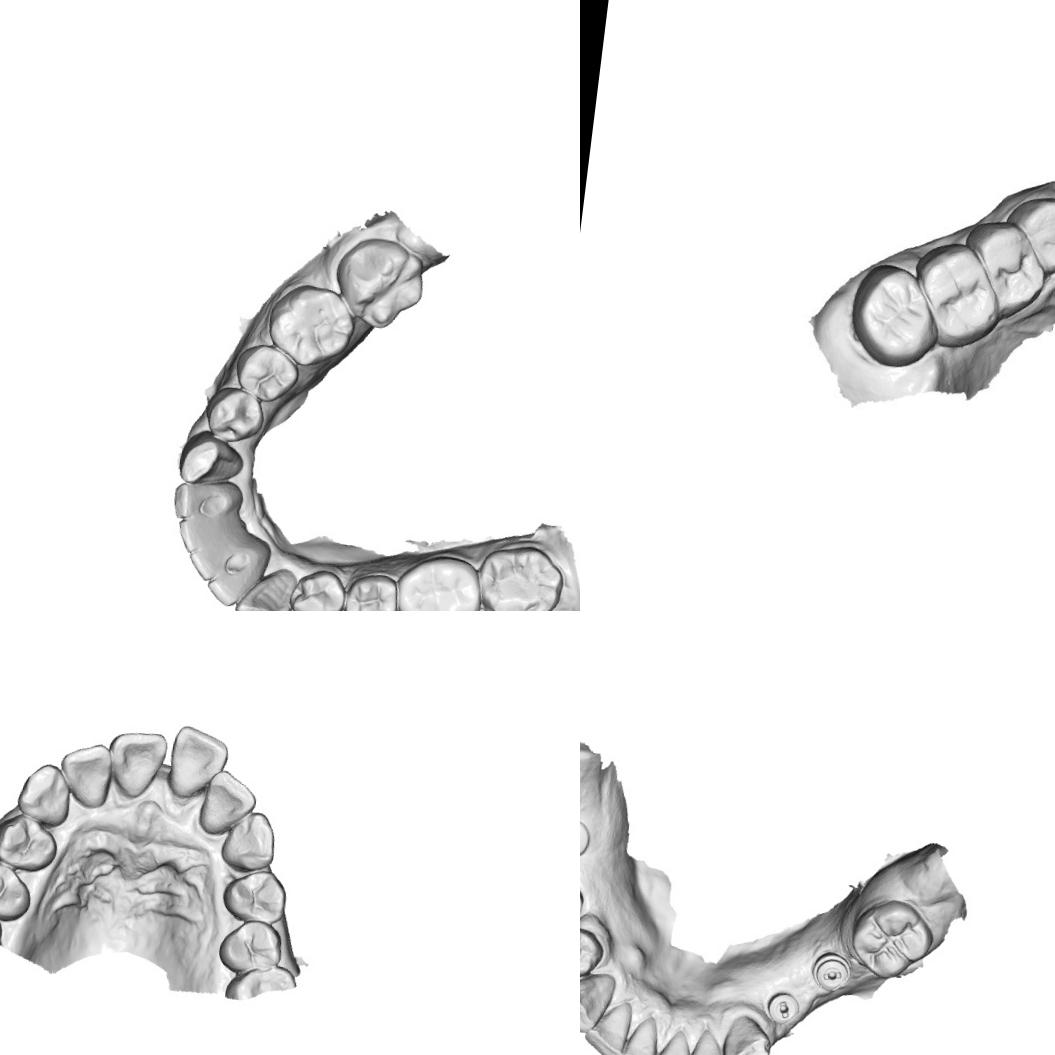canine: (173, 426, 244, 492), (13, 758, 75, 830), (216, 807, 279, 876), (229, 563, 299, 611), (580, 970, 621, 1039), (718, 1010, 775, 1055)
implant: (580, 809, 599, 866)
implant_minus: (809, 944, 855, 996), (762, 986, 804, 1030), (580, 872, 589, 920)
incisor: (164, 720, 234, 805), (182, 530, 278, 587), (172, 509, 277, 560), (102, 726, 169, 803), (195, 764, 261, 842), (54, 739, 118, 812), (170, 475, 244, 528), (580, 999, 639, 1055), (203, 560, 266, 611), (614, 1010, 668, 1055), (646, 1025, 701, 1055), (681, 1024, 734, 1055)
molar: (327, 230, 432, 336), (263, 278, 363, 373), (912, 242, 1002, 340), (844, 894, 938, 985), (851, 265, 938, 359), (966, 218, 1048, 313), (470, 538, 572, 611), (391, 548, 483, 611)
premolar: (227, 337, 300, 407), (214, 914, 288, 980), (219, 863, 292, 928), (199, 382, 270, 448), (0, 808, 63, 876), (1012, 194, 1055, 274), (285, 565, 348, 611), (339, 567, 404, 611), (0, 856, 37, 925), (580, 922, 607, 986)
